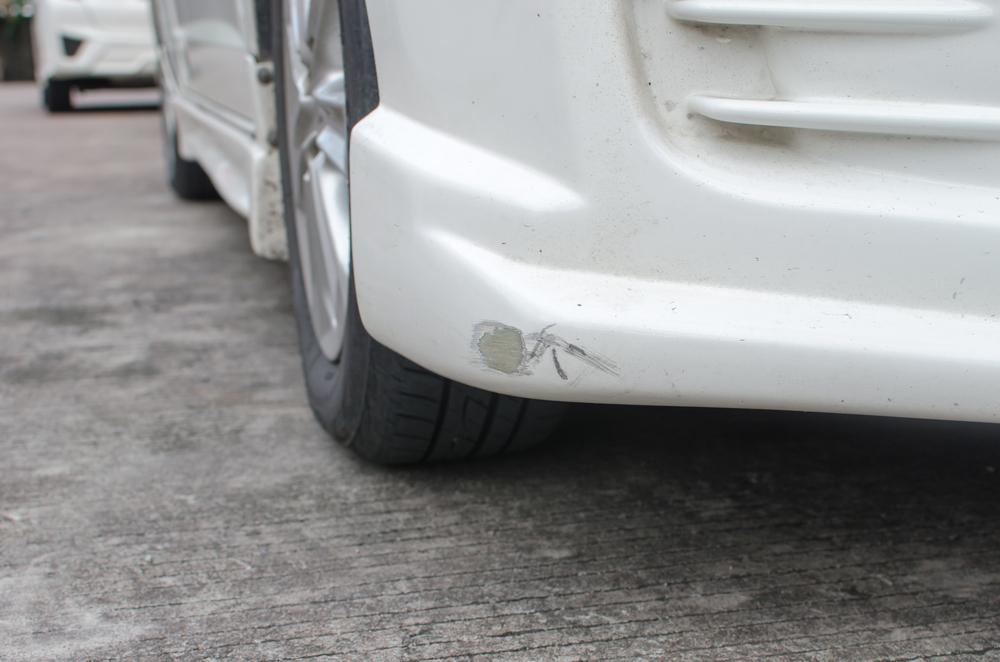scratch: (464, 315, 615, 389)
